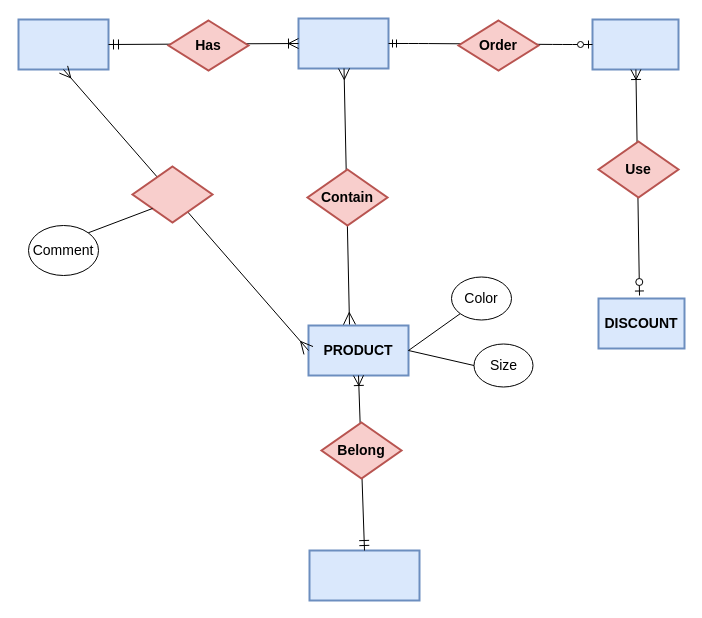
The diagram is 702 pixels wide and 618 high, and some of its shapes have lost their labels. Here are the shapes that lost their labels. From the top down, the centre of each, then its label:
At point (63, 44): "USER".
At point (343, 43): "CART".
At point (635, 44): "BILL".
At point (172, 194): "Rate".
At point (364, 575): "CATEGORY".
